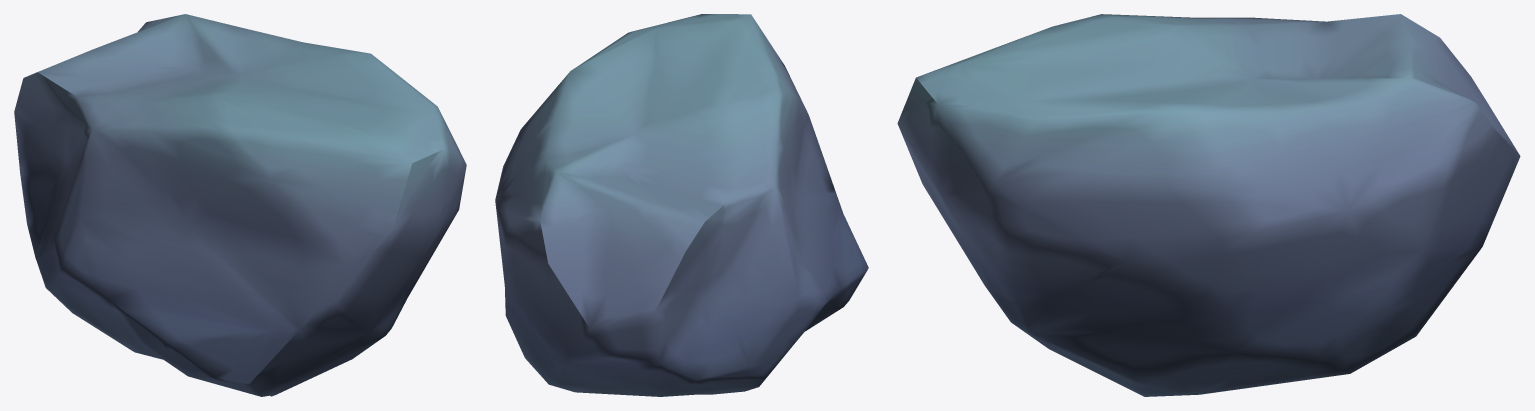
The model's file is SM_Hill_Rock_07.fbx.
3 views of the same model, side by side, from view 1: azimuth 30°, elevation 25°; view 2: azimuth 150°, elevation 25°; view 3: azimuth 270°, elevation 25° (orthographic). The views are drawn at different scales.
Visible parts, largest first — view 1: Stone1.003; view 2: Stone1.003; view 3: Stone1.003.
Boxes of the visible parts, left/top/right/bottom form: Stone1.003: left=14, top=14, right=466, bottom=396; Stone1.003: left=495, top=14, right=868, bottom=396; Stone1.003: left=897, top=14, right=1520, bottom=396.
Bounding box in the file's own units: 796 × 676 × 1143.
1 material, 1 textured.
